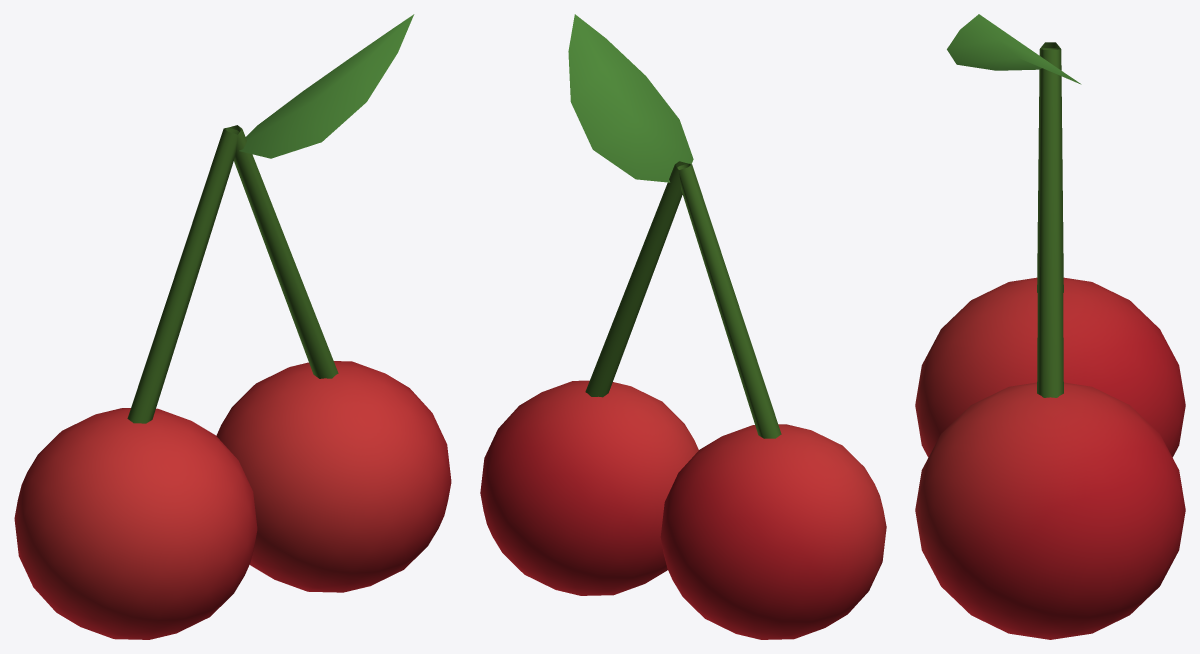
File: fruit_cherry.glb
3 views of the same model, side by side, from view 1: azimuth 30°, elevation 25°; view 2: azimuth 150°, elevation 25°; view 3: azimuth 270°, elevation 25° (orthographic). The views are drawn at different scales.
Visible parts, largest first — view 1: fruit_cherry; view 2: fruit_cherry; view 3: fruit_cherry.
Boxes of the visible parts, box(x1,y1,x2,y2) form: fruit_cherry: box(14, 14, 451, 639); fruit_cherry: box(480, 14, 886, 639); fruit_cherry: box(915, 14, 1185, 639).
Bounding box in the file's own units: 0.23 × 0.3136 × 0.12.
